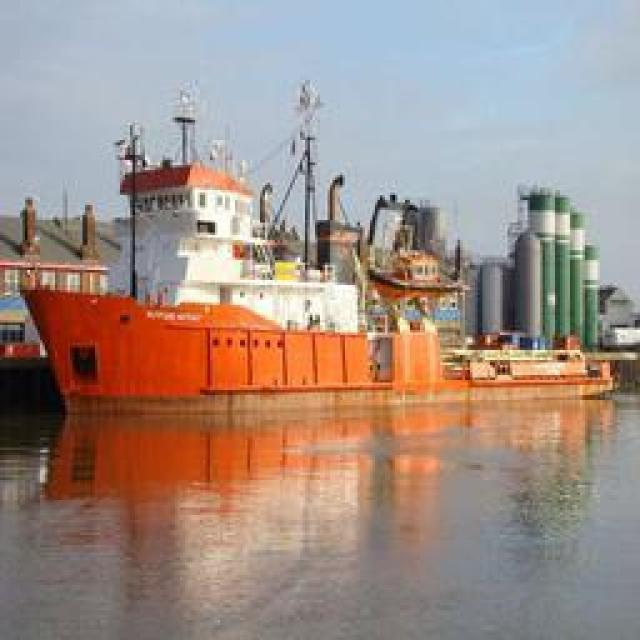ship2: (24, 75, 615, 395)
